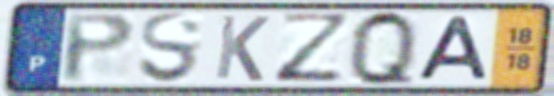A: (413, 14, 492, 83)
K: (211, 13, 272, 84)
P: (61, 11, 139, 86)
Q: (347, 7, 418, 90)
S: (135, 9, 205, 86)
Z: (272, 10, 356, 86)
